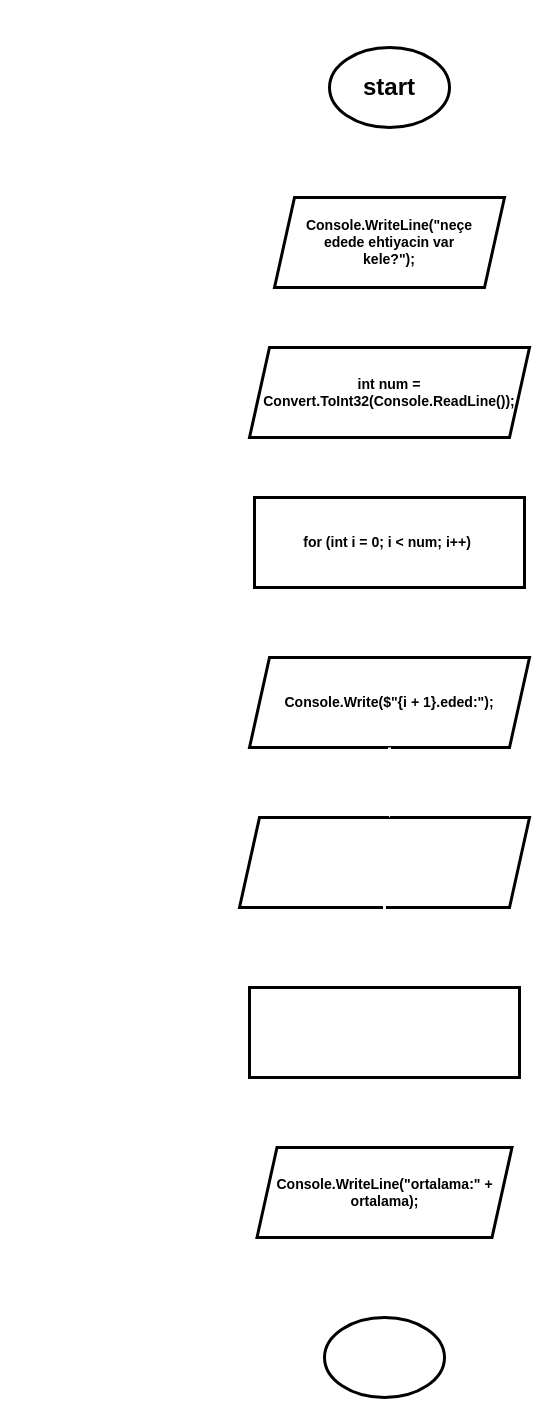
This 548x1416 diagram has some shape labels left out. Here are the shapes that lost their labels. From the top down, the box of each, then its label:
(238, 816, 530, 908): ededler[i] = Convert.ToInt32(Console.ReadLine());
(248, 986, 520, 1078): double ortalama = ededler.Sum() / (double)num;
(322, 1316, 446, 1398): end
